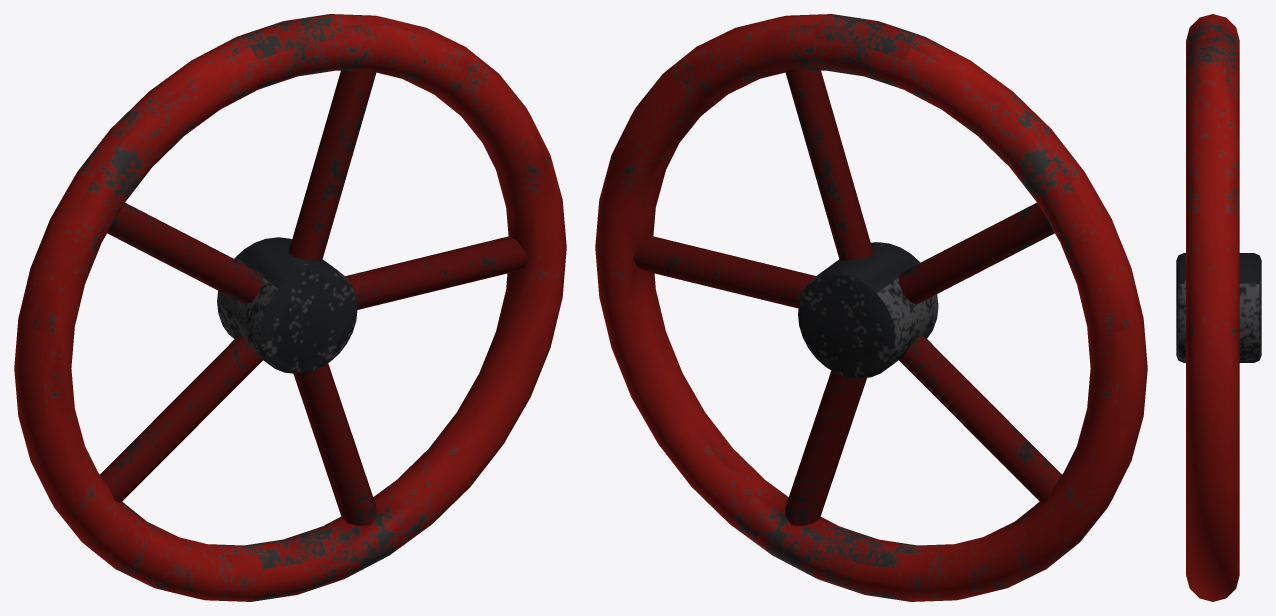
File: steam_wheel.gltf
3 views of the same model, side by side, from view 1: azimuth 30°, elevation 25°; view 2: azimuth 150°, elevation 25°; view 3: azimuth 270°, elevation 25° (orthographic). The views are drawn at different scales.
Parts seen in each view (by area): view 1: steam_wheel; view 2: steam_wheel; view 3: steam_wheel.
Part boxes in pixels (x1,y1,x2,y2): steam_wheel: (14,14,566,601); steam_wheel: (595,14,1147,601); steam_wheel: (1176,14,1261,601).
Bounding box in the file's own units: 0.484 × 0.484 × 0.07.
Materials: 2 (2 with a texture image).
